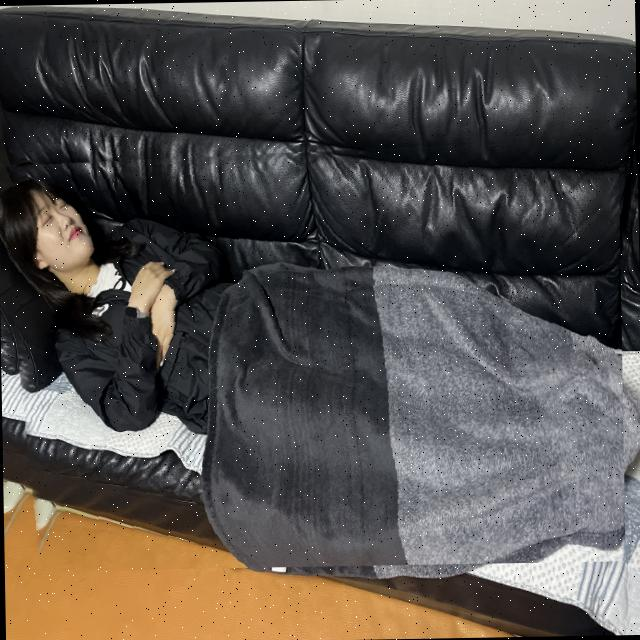people: (0, 137, 625, 571)
